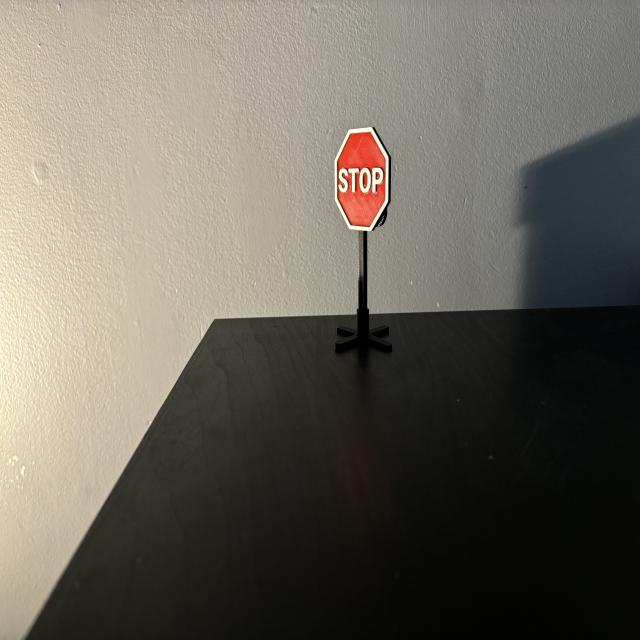sign_stop: (335, 129, 391, 231)
